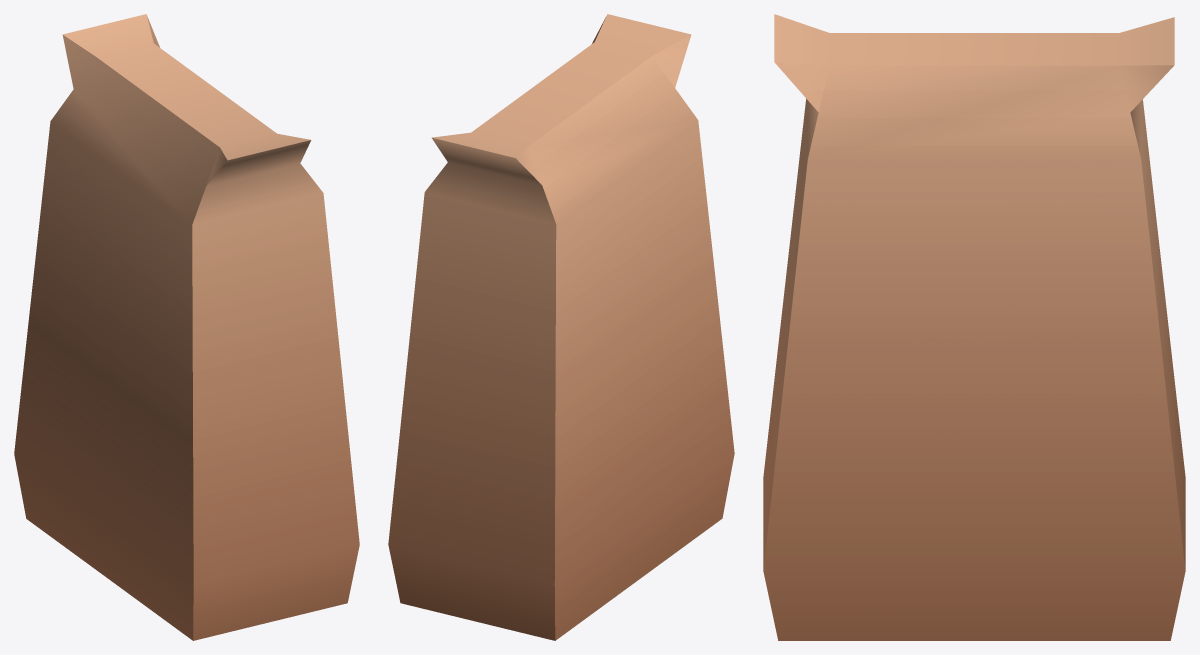
The model's file is food-bag.glb.
The picture shows the model from 3 angles, left to right: view 1: azimuth 30°, elevation 25°; view 2: azimuth 150°, elevation 25°; view 3: azimuth 270°, elevation 25°; orthographic projection. The views are drawn at different scales.
Visible parts, largest first — view 1: bag; view 2: bag; view 3: bag.
Boxes of the visible parts, x1,y1,x2,y2 form: bag: (14,14,359,640); bag: (388,14,734,640); bag: (763,14,1185,640).
Bounding box in the file's own units: 0.2201 × 0.5998 × 0.4118.
Materials: 1 (1 with a texture image).
